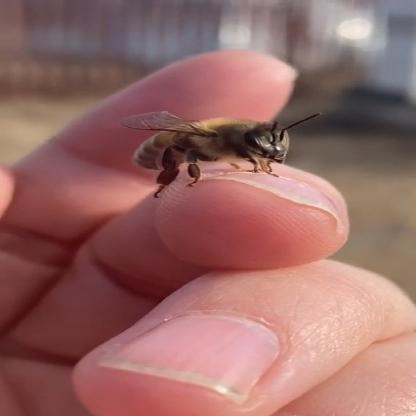bee: (104, 94, 330, 192)
